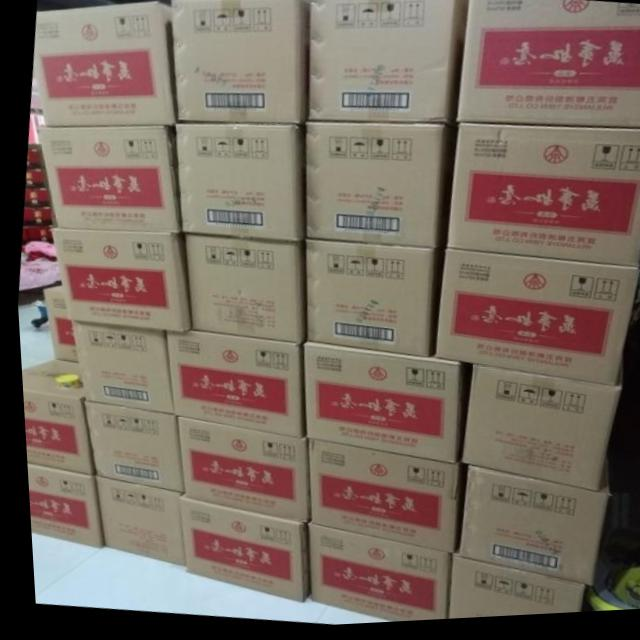box: (427, 249, 635, 389), (443, 129, 640, 273), (455, 0, 640, 132), (303, 0, 468, 130), (298, 123, 462, 251), (453, 369, 612, 498), (450, 458, 603, 591), (299, 343, 459, 468), (299, 242, 443, 362), (37, 0, 174, 125), (168, 0, 306, 124), (302, 445, 453, 558), (169, 124, 303, 242), (158, 331, 299, 443), (34, 123, 174, 233), (174, 496, 305, 606), (171, 418, 304, 526), (48, 226, 182, 332), (301, 526, 444, 625), (176, 234, 298, 343), (64, 324, 169, 418), (76, 400, 174, 492), (439, 560, 577, 623), (88, 475, 180, 569), (17, 356, 82, 473), (22, 462, 92, 546), (39, 283, 73, 364), (19, 225, 51, 249), (22, 205, 53, 227), (22, 186, 46, 207), (24, 163, 42, 186), (25, 144, 39, 166)
